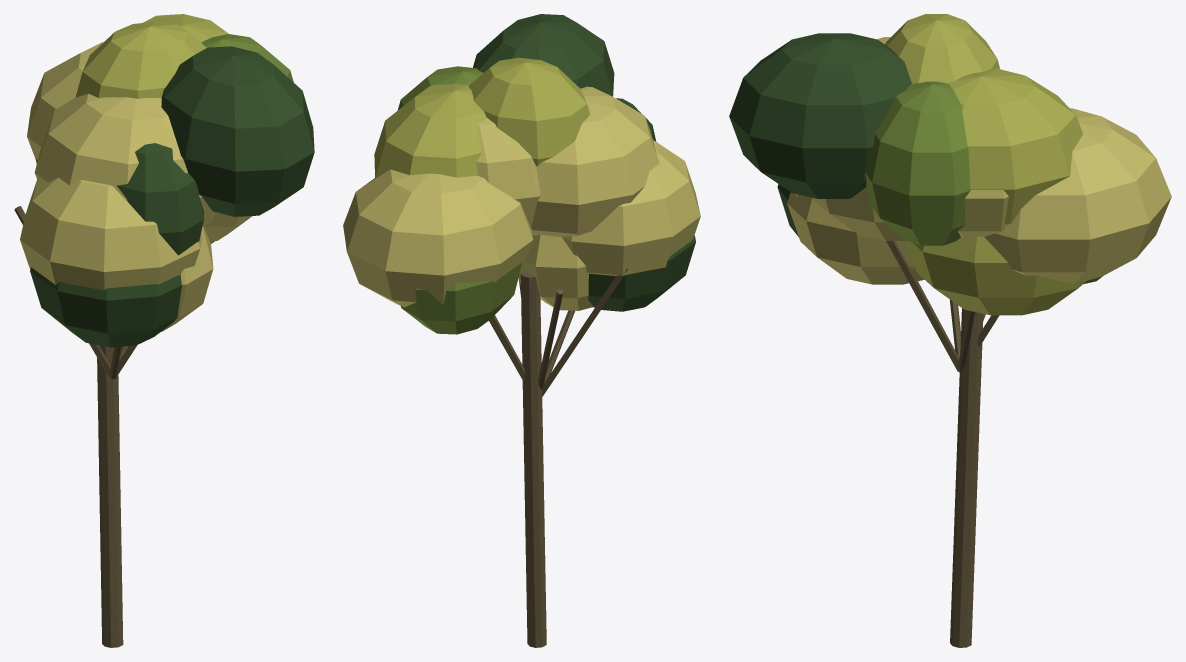
Rendered from Forest_BacklitTree_11.obj.
The picture shows the model from 3 angles, left to right: view 1: azimuth 30°, elevation 25°; view 2: azimuth 150°, elevation 25°; view 3: azimuth 270°, elevation 25°; orthographic projection. The views are drawn at different scales.
Visible parts, largest first — view 1: Forest_BacklitTree_11; view 2: Forest_BacklitTree_11; view 3: Forest_BacklitTree_11.
Boxes of the visible parts, x1,y1,x2,y2 form: Forest_BacklitTree_11: (14, 14, 314, 647); Forest_BacklitTree_11: (343, 14, 700, 647); Forest_BacklitTree_11: (729, 14, 1171, 647).
Size of the model in its own units: 5.12 by 10.71 by 6.76.
1 material, 1 textured.
